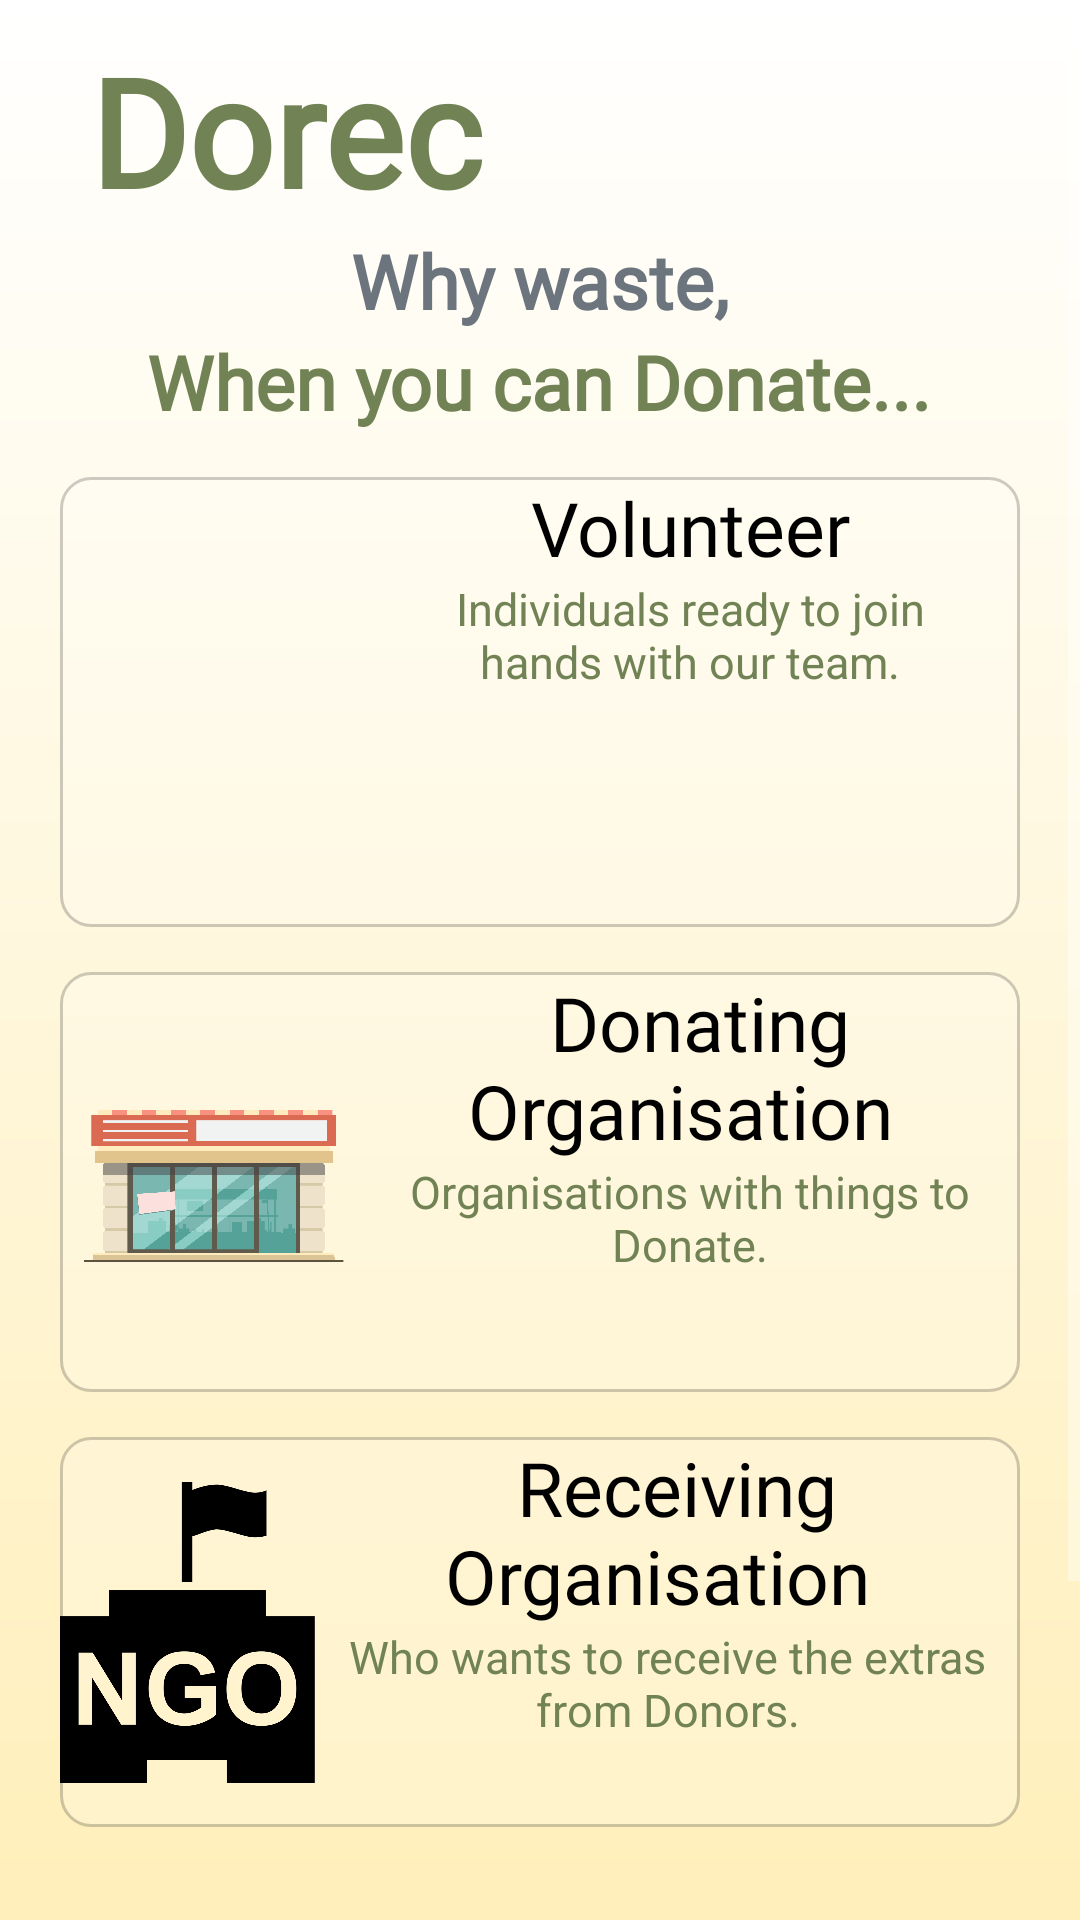

Where icons sit on this 1080 × 1920 app screen, as (x1,y1,x2,y2):
institutions: (84,1110,344,1262)
